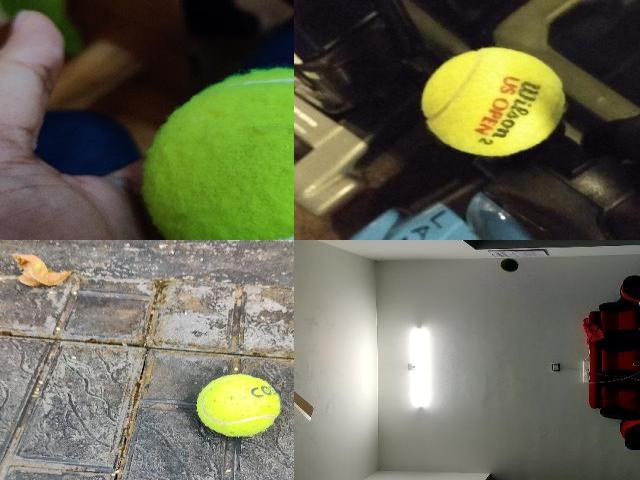tennis-ball: (144, 67, 293, 239), (419, 46, 566, 158), (196, 373, 280, 437), (499, 258, 518, 272)
